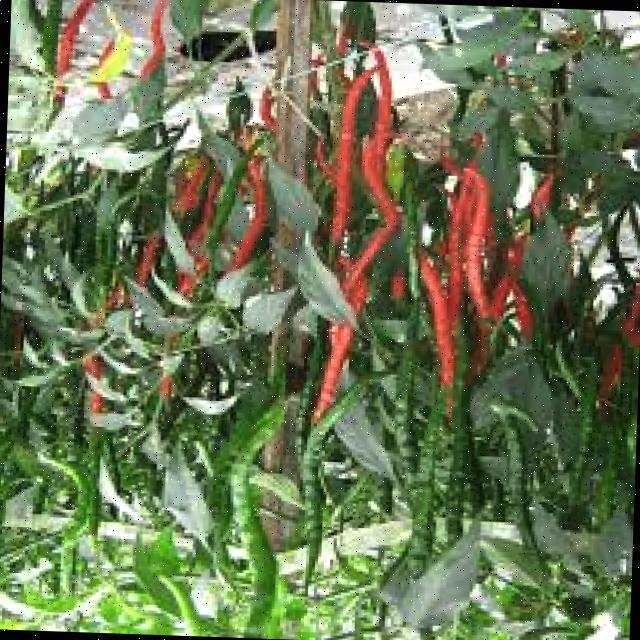healthy: (215, 0, 640, 477)
